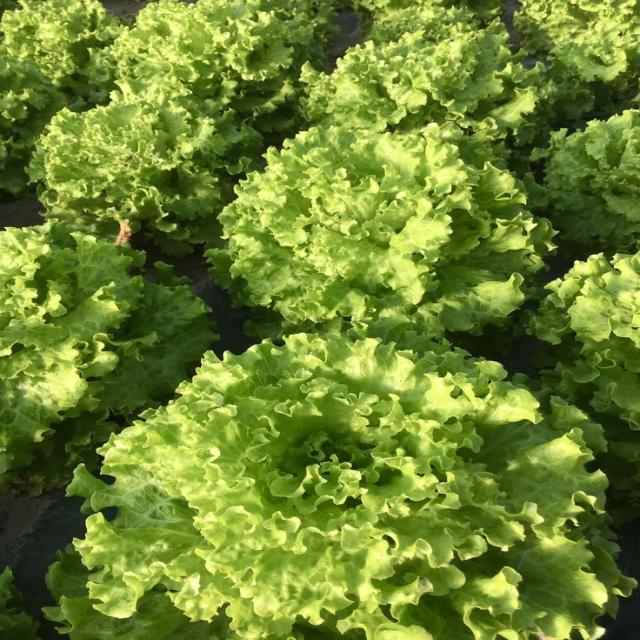lettuce: (49, 335, 632, 639), (208, 124, 553, 337), (0, 223, 214, 491), (29, 83, 261, 253), (110, 0, 331, 141), (302, 23, 548, 144), (530, 254, 639, 517), (0, 0, 121, 194), (514, 0, 639, 119), (544, 111, 639, 249), (0, 0, 123, 103), (0, 44, 65, 194), (367, 5, 479, 43), (352, 0, 503, 20), (0, 568, 38, 639)
